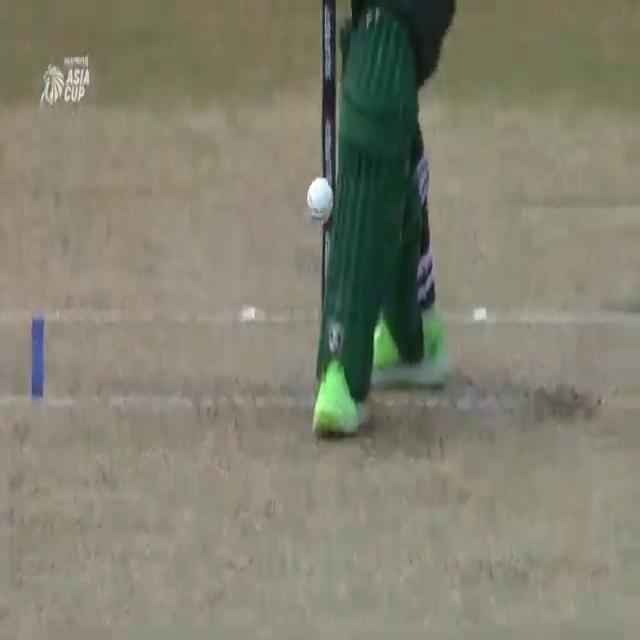Cricket ball: (305, 171, 338, 226)
